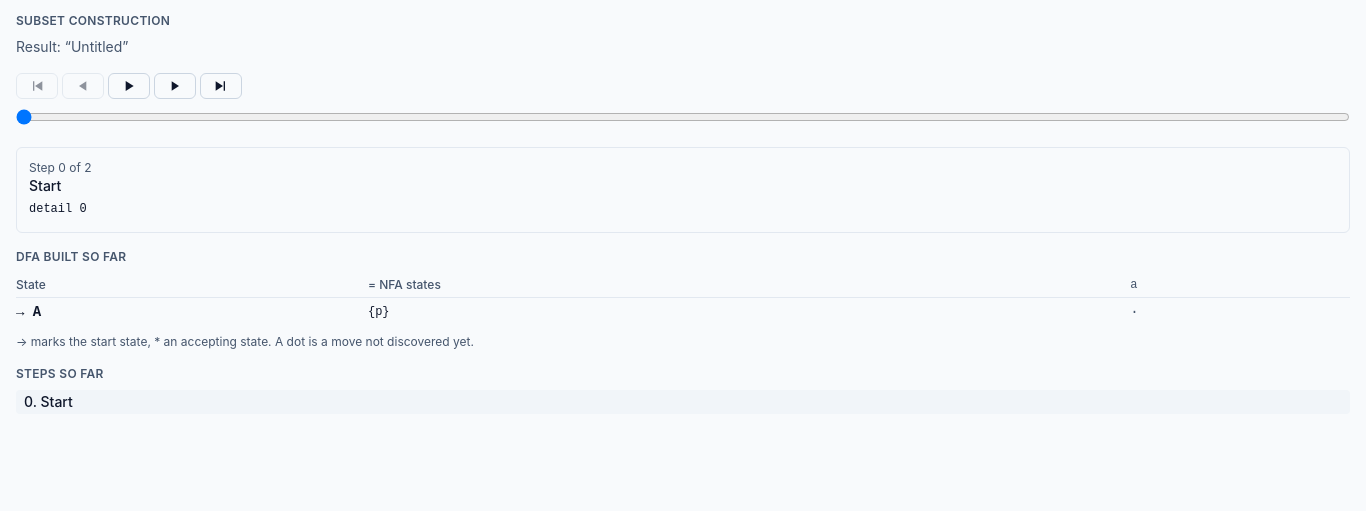
Test: StepsPanel › lists only the steps run so far, and jumps back when one is clicked
Check: the number of list items is 1, box [16,390,1350,414]
Click the button named "Last step" at [221, 86], box [200,73,242,99]
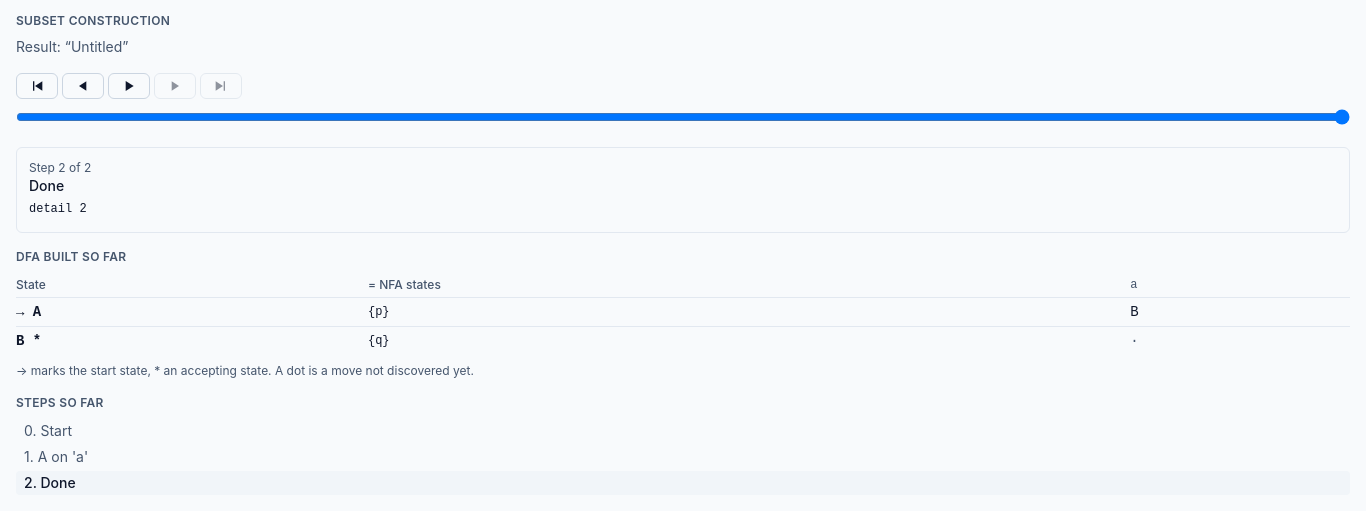
Check: the number of list items is 3
Click the button "1. A on 'a'" at [63, 456], box [16,444,1350,468]
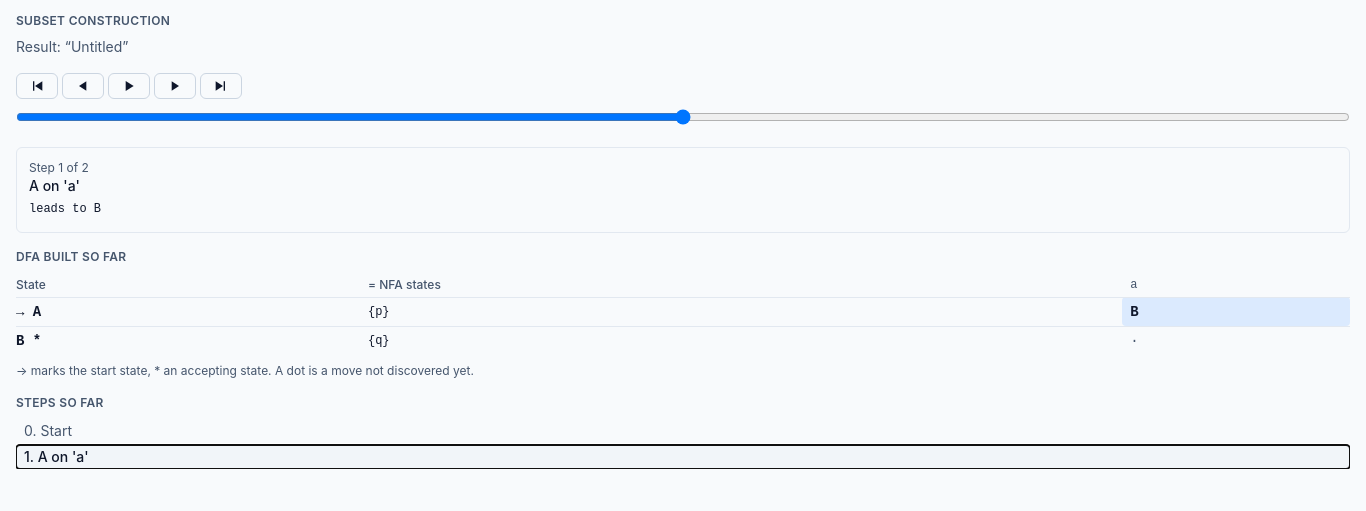
Check: the element with test id "step-card" shows "Step 1 of 2", box [16,147,1350,232]
